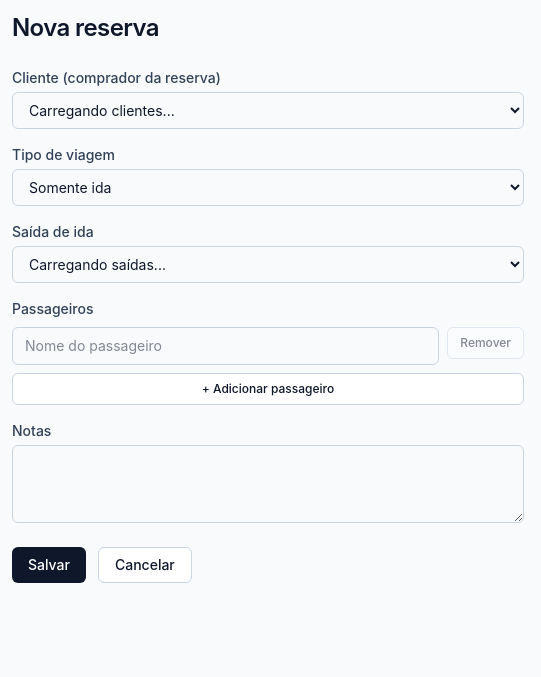
Test: BookingFormPage › hides the return-departure field for ONE_WAY and shows it for ROUND_TRIP
Expected: the dropdown labelled "Cliente (comprador da reserva)" is shown, [12, 92, 524, 129]
Expected: the field labelled "Saída de volta" is not shown
Select "Ida e volta" in the dropdown labelled "Tipo de viagem" at x=268, y=188, box [12, 169, 524, 206]
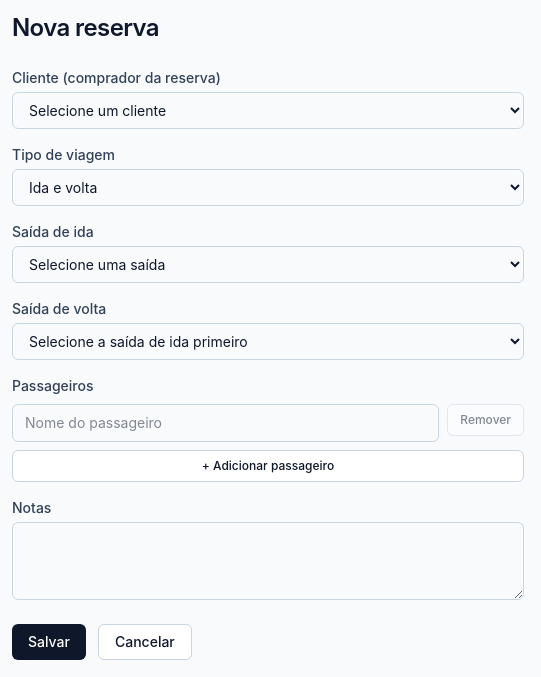
Result: the dropdown labelled "Saída de volta" is shown at [12, 323, 524, 360]
